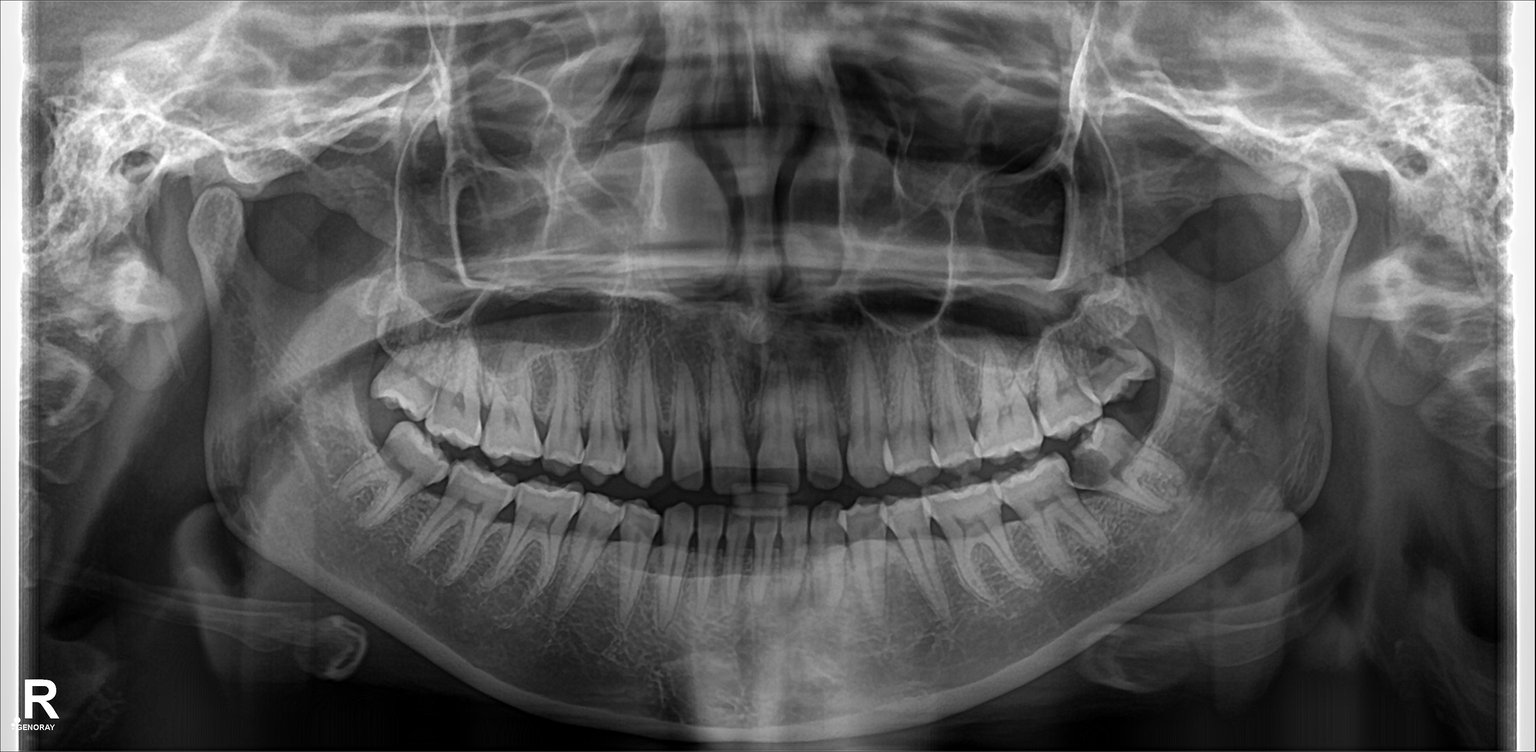Dental Caries: (1069, 450, 1111, 487)
Impacted Third Molar: (1068, 434, 1177, 495)
